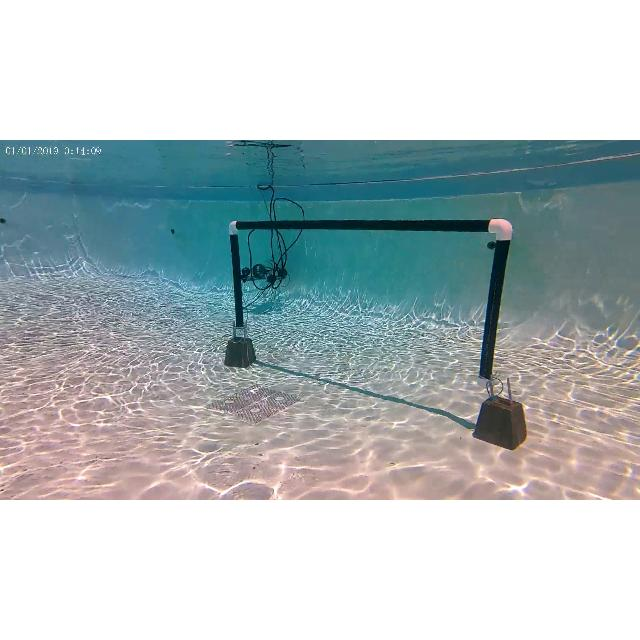prequal gate: (228, 218, 514, 388)
prequal gate leg l: (226, 220, 250, 334)
prequal gate leg r: (476, 215, 512, 381)
